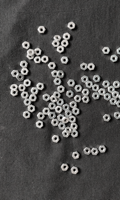nut: (22, 41, 30, 50), (68, 22, 76, 30), (38, 26, 46, 34), (52, 40, 60, 48), (27, 49, 35, 57), (34, 56, 42, 64), (49, 62, 57, 70), (54, 78, 62, 86), (93, 75, 101, 83), (86, 81, 94, 89), (108, 86, 116, 94), (104, 93, 112, 101), (110, 98, 118, 106), (37, 83, 45, 91), (55, 106, 63, 114), (28, 105, 36, 113), (23, 111, 31, 119), (36, 121, 44, 129), (51, 119, 59, 127), (71, 123, 79, 131), (71, 167, 79, 175), (16, 74, 25, 81), (11, 70, 20, 77), (53, 92, 62, 99), (103, 47, 111, 54), (111, 55, 118, 63), (54, 35, 62, 42), (57, 46, 65, 53), (88, 63, 95, 71), (81, 63, 88, 71), (61, 57, 69, 64), (35, 48, 42, 56), (20, 61, 28, 68), (21, 68, 29, 75), (57, 71, 65, 78), (52, 70, 59, 78), (82, 76, 89, 84), (93, 84, 100, 92), (103, 81, 111, 88), (113, 81, 120, 89), (68, 80, 76, 87), (24, 79, 31, 87), (82, 89, 90, 96), (83, 96, 90, 104), (113, 91, 120, 99), (103, 115, 111, 122), (75, 85, 83, 92), (75, 95, 82, 103), (19, 84, 26, 92), (10, 85, 18, 92), (31, 88, 39, 95), (21, 92, 29, 99), (29, 95, 37, 102), (24, 99, 32, 106), (50, 96, 58, 103), (43, 94, 50, 102), (57, 99, 65, 106), (63, 104, 70, 112), (73, 108, 80, 116), (66, 110, 73, 118), (43, 108, 51, 115), (37, 113, 45, 120), (49, 112, 56, 120), (57, 115, 65, 122), (69, 116, 76, 124), (62, 117, 70, 124), (62, 131, 70, 138), (72, 130, 79, 138), (52, 136, 60, 143), (99, 146, 107, 153), (92, 148, 99, 156), (84, 148, 92, 155), (73, 152, 80, 160), (61, 164, 69, 171), (64, 33, 71, 40), (62, 40, 69, 47), (27, 53, 34, 60), (42, 56, 49, 63), (93, 93, 100, 100), (99, 89, 106, 96), (58, 86, 65, 93), (67, 91, 74, 98), (11, 90, 18, 97), (70, 102, 77, 109), (49, 103, 56, 110), (59, 123, 66, 130), (65, 127, 72, 134), (115, 112, 120, 120), (117, 48, 120, 55), (117, 101, 120, 108), (119, 94, 120, 101)
